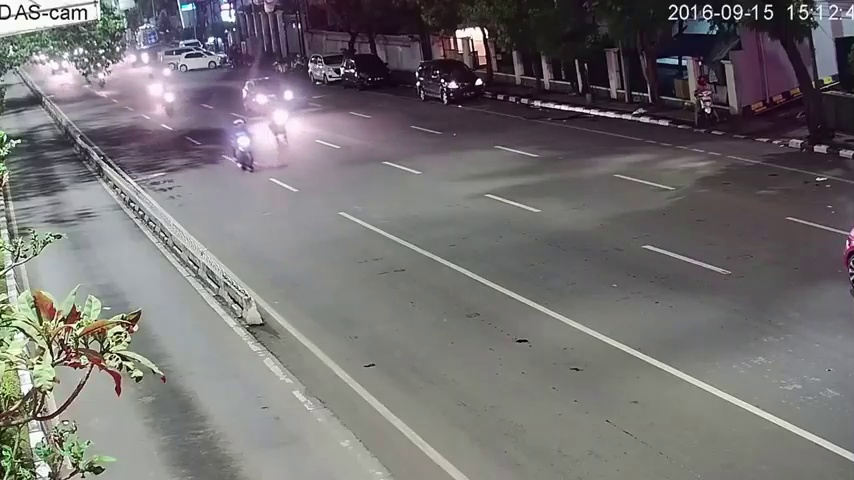car: (414, 59, 486, 108), (244, 79, 298, 117), (340, 49, 388, 87), (307, 51, 342, 85)
motorbike: (693, 77, 717, 129), (232, 121, 255, 171), (264, 103, 292, 144), (159, 81, 180, 117)
